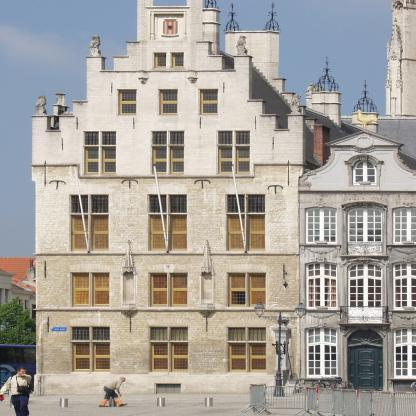Building Outline: (29, 0, 401, 396)
Cornice: (68, 185, 111, 193), (68, 263, 111, 271), (146, 263, 189, 271), (225, 263, 268, 271), (224, 185, 267, 193), (146, 185, 189, 193)
Deco: (120, 239, 137, 317), (198, 239, 215, 317), (155, 14, 183, 38), (89, 36, 101, 56), (35, 95, 47, 115), (290, 94, 302, 114), (236, 36, 248, 56)
Facade: (36, 178, 298, 396)
Floor: (36, 187, 299, 264), (32, 124, 301, 187), (36, 264, 299, 320), (86, 60, 249, 124), (127, 41, 209, 80)
Floor Slab: (32, 120, 303, 124), (35, 184, 298, 188), (36, 261, 299, 265), (36, 316, 299, 320), (87, 76, 249, 80)
Ground Floor: (36, 320, 299, 396)
Roof: (220, 54, 401, 171)
Window: (225, 194, 265, 252), (69, 194, 109, 251), (147, 195, 187, 252), (70, 326, 111, 372), (226, 327, 266, 372), (149, 327, 188, 373), (216, 131, 250, 175), (83, 131, 116, 175), (151, 131, 184, 175), (227, 272, 266, 307), (70, 272, 109, 307), (149, 272, 188, 307), (198, 88, 218, 115), (117, 89, 136, 115), (158, 89, 177, 115), (155, 383, 181, 394), (170, 52, 184, 69), (153, 52, 166, 69)
dont: (253, 301, 308, 397), (240, 383, 306, 415), (98, 376, 128, 407)
